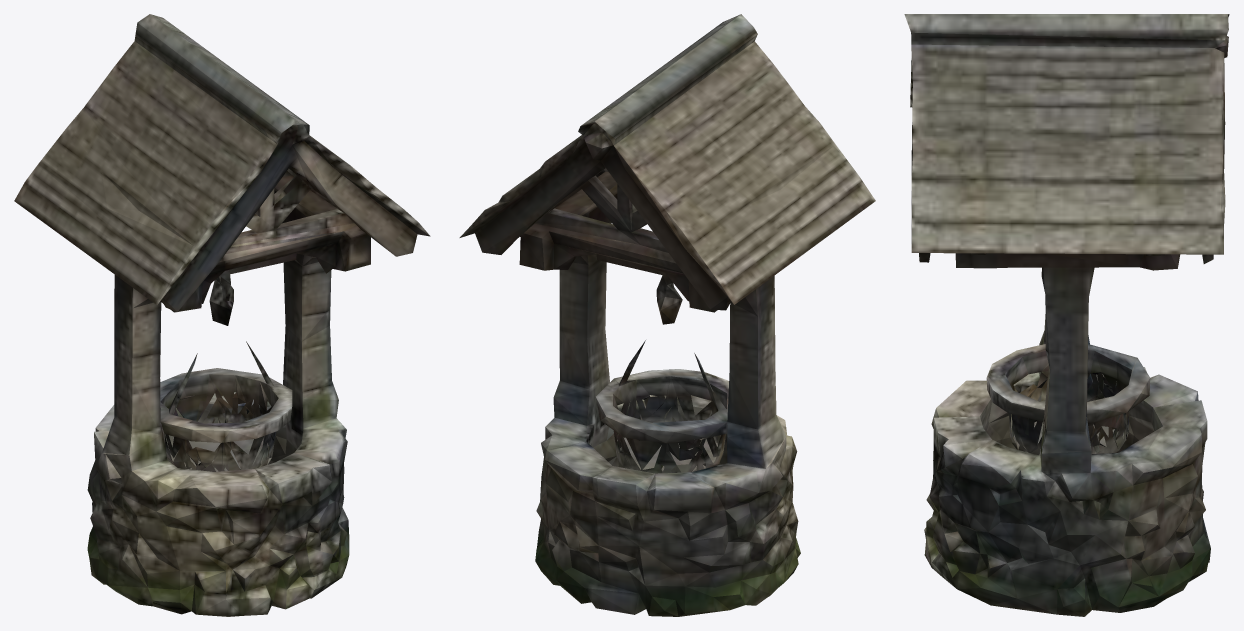
File: well_stone_shingle_lod0.glb
3 renders of one model, left to right at view 1: azimuth 30°, elevation 25°; view 2: azimuth 150°, elevation 25°; view 3: azimuth 270°, elevation 25°, orthographic. The views are drawn at different scales.
Parts seen in each view (by area): view 1: well_stone_shingle_lod0; view 2: well_stone_shingle_lod0; view 3: well_stone_shingle_lod0.
Part boxes in pixels (x1,y1,x2,y2): well_stone_shingle_lod0: (14,14,430,616); well_stone_shingle_lod0: (459,14,875,616); well_stone_shingle_lod0: (904,14,1229,616).
Bounding box in the file's own units: 1.73 × 3 × 1.61.
1 material, 1 textured.
